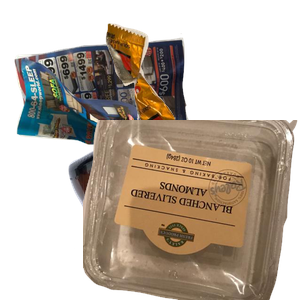glass: (66, 120, 300, 300)
paper: (12, 31, 196, 204)
plastic: (83, 120, 300, 300)
trash: (103, 21, 300, 174)
